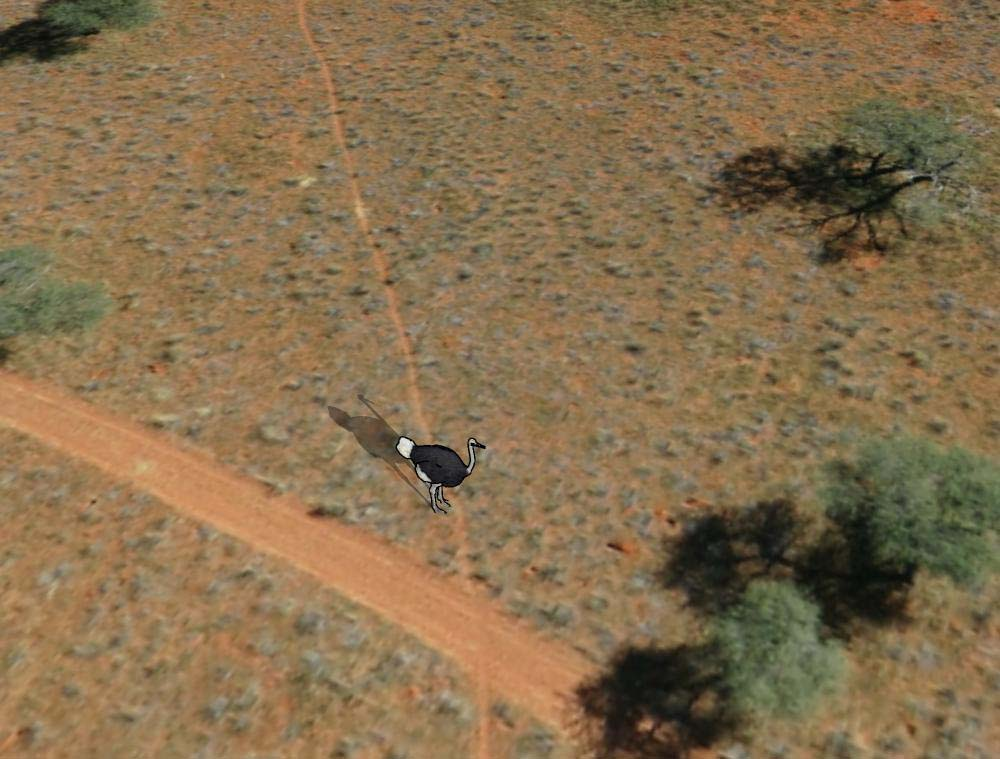springbok: (394, 429, 492, 516)
